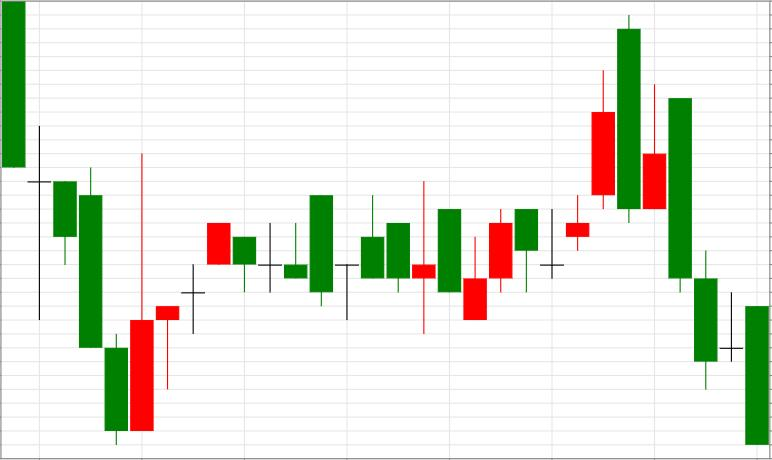bearish_engulfing_fall: (464, 14, 640, 321)
